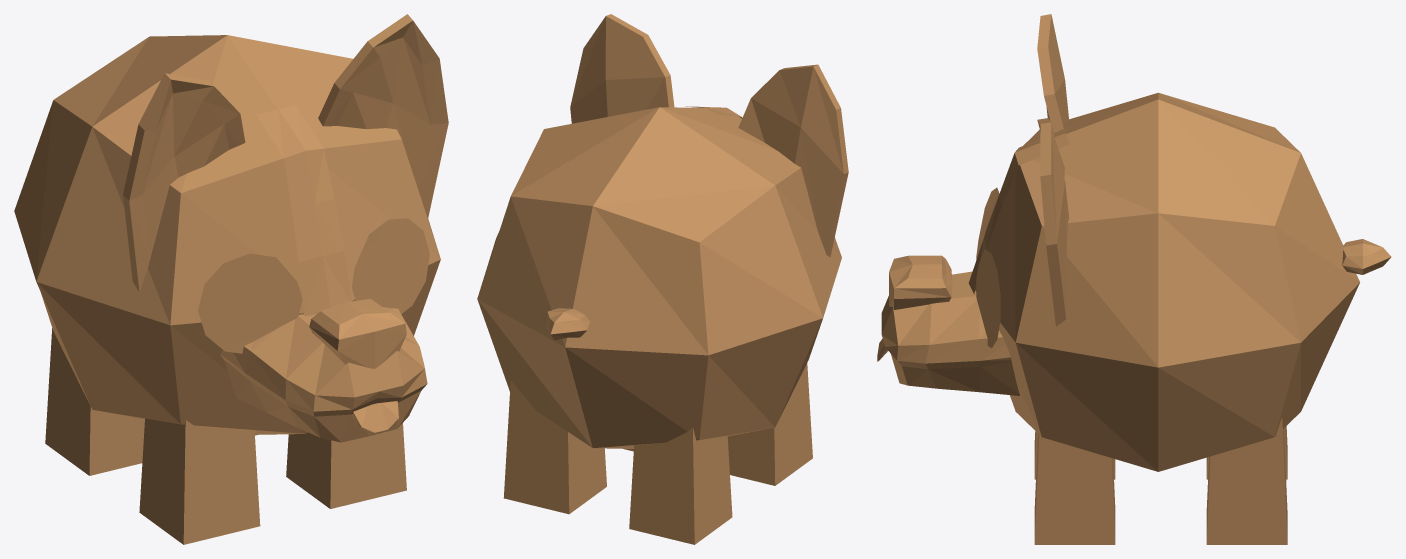
The model's file is Corgi.obj.
3 views of the same model, side by side, from view 1: azimuth 30°, elevation 25°; view 2: azimuth 150°, elevation 25°; view 3: azimuth 270°, elevation 25° (orthographic). The views are drawn at different scales.
Visible parts, largest first — view 1: Gobkit_Corgi_CC0; view 2: Gobkit_Corgi_CC0; view 3: Gobkit_Corgi_CC0.
Part boxes in pixels (box(x1,y1,x2,y2)): Gobkit_Corgi_CC0: box(14, 14, 448, 544); Gobkit_Corgi_CC0: box(477, 14, 848, 544); Gobkit_Corgi_CC0: box(877, 14, 1391, 544).
Bounding box in the file's own units: 346 × 404 × 441.
